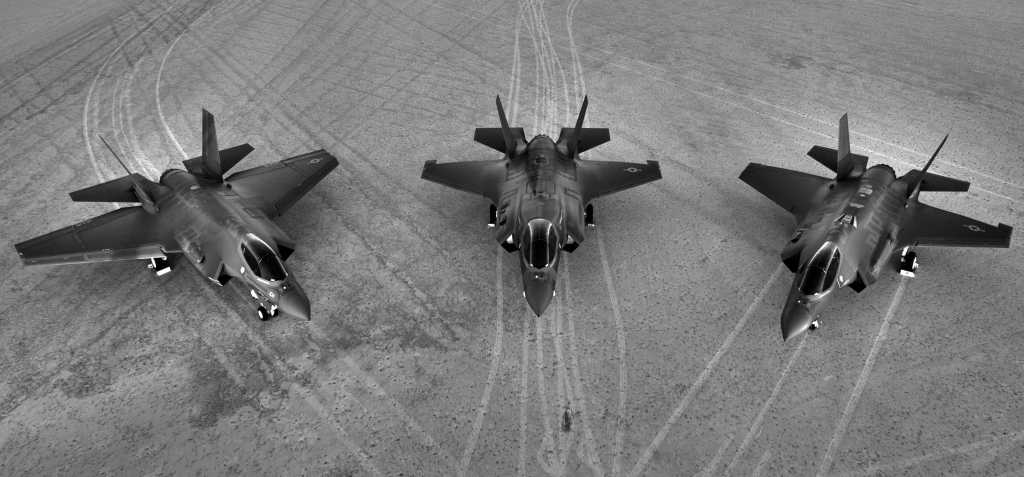F35: (20, 104, 339, 328), (738, 116, 1011, 343), (414, 91, 672, 324)
